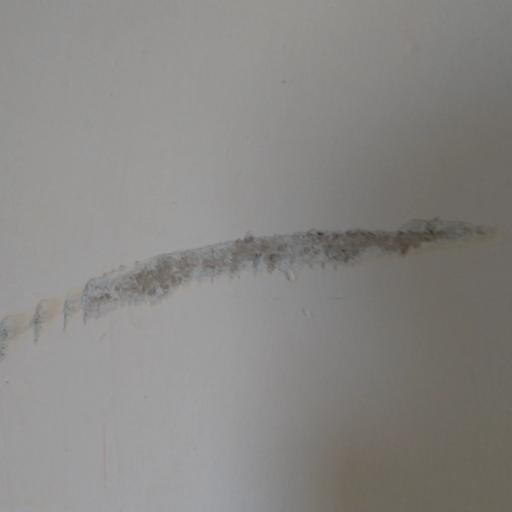stain: (0, 206, 512, 359)
